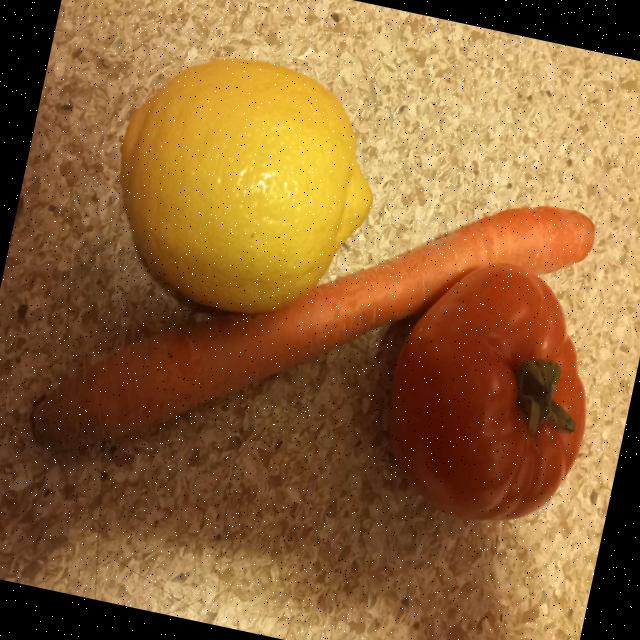carrot: (30, 206, 595, 449)
lemon: (120, 58, 372, 313)
tomato: (390, 263, 586, 520)
